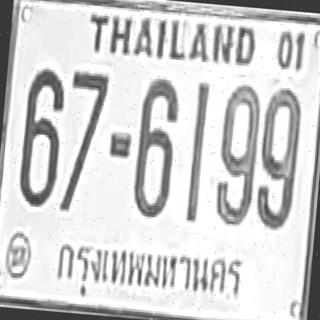N01: (184, 81, 210, 222)
N06: (130, 75, 180, 218), (16, 65, 66, 206)
N07: (59, 69, 108, 212)
N09: (254, 85, 304, 230), (212, 82, 260, 226)
P04: (49, 229, 251, 317)
